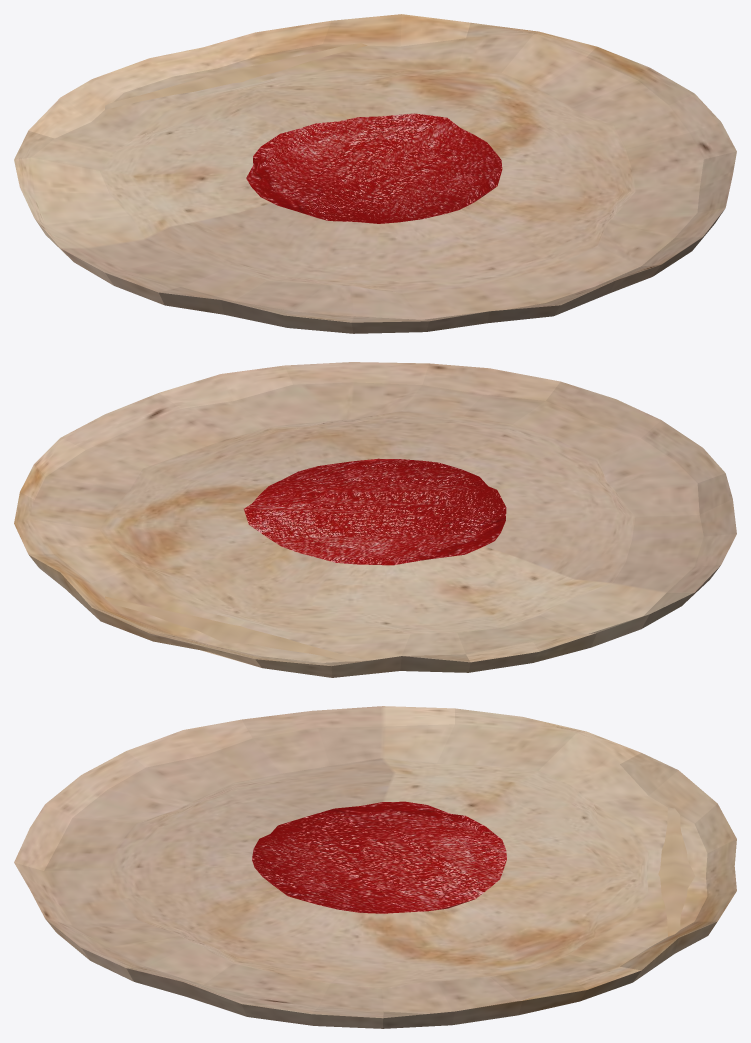
Rendered from pizzabodem_rauw_saus_fase_1.glb.
3 renders of one model, top to bottom at view 1: azimuth 30°, elevation 25°; view 2: azimuth 150°, elevation 25°; view 3: azimuth 270°, elevation 25°, orthographic.
Visible parts, largest first — view 1: Sphere, Cylinder.002; view 2: Sphere, Cylinder.002; view 3: Sphere, Cylinder.002.
Part boxes in pixels (<box>): Sphere: <box>14,14,736,333</box>; Cylinder.002: <box>246,113,502,223</box>; Sphere: <box>14,362,736,677</box>; Cylinder.002: <box>244,458,506,565</box>; Sphere: <box>14,706,736,1028</box>; Cylinder.002: <box>252,801,506,913</box>.
Bounding box in the file's own units: 3.09 × 0.1163 × 3.03.
2 materials, 2 textured.
